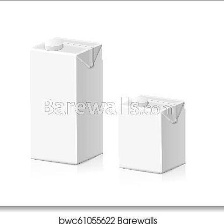carton: (22, 30, 108, 167), (113, 88, 195, 179)
